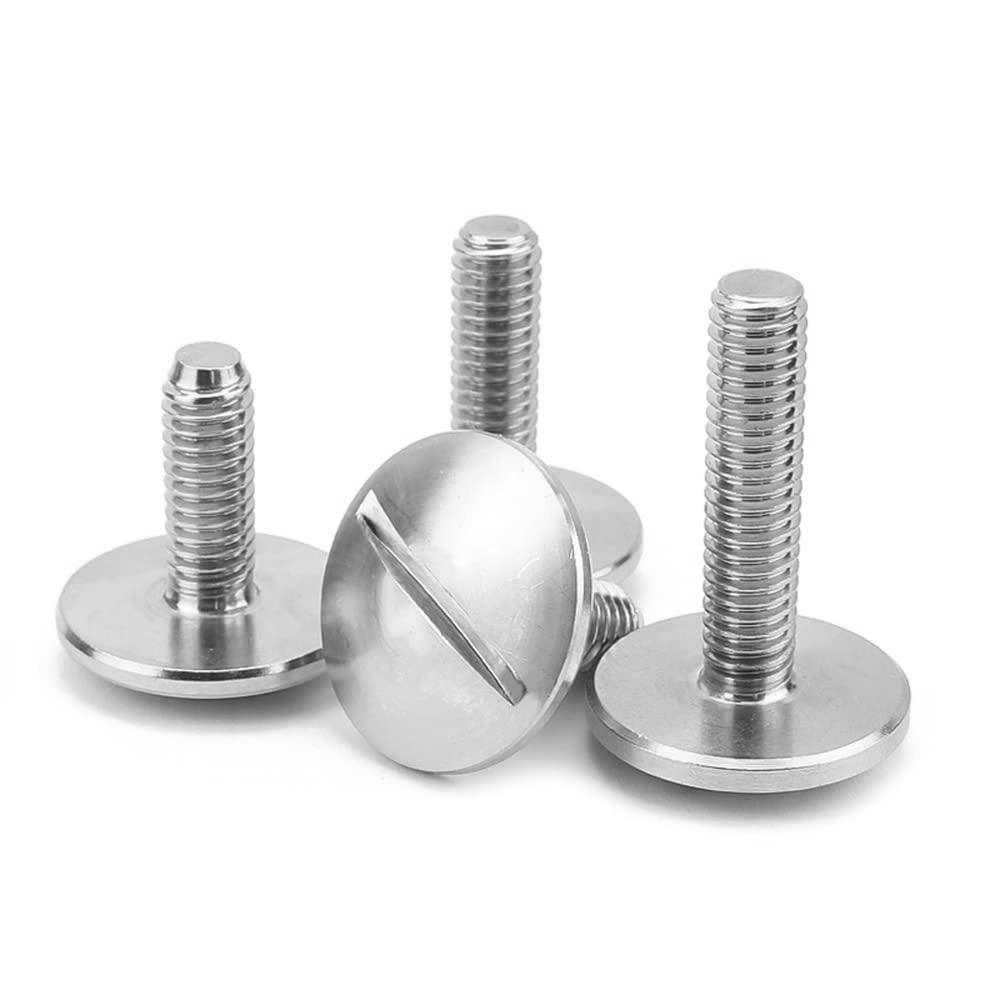screw: (324, 436, 583, 774)
